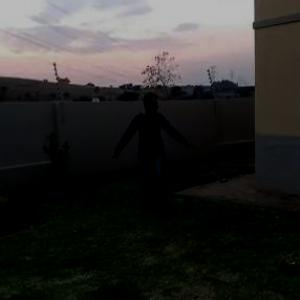land: (105, 94, 201, 226)
